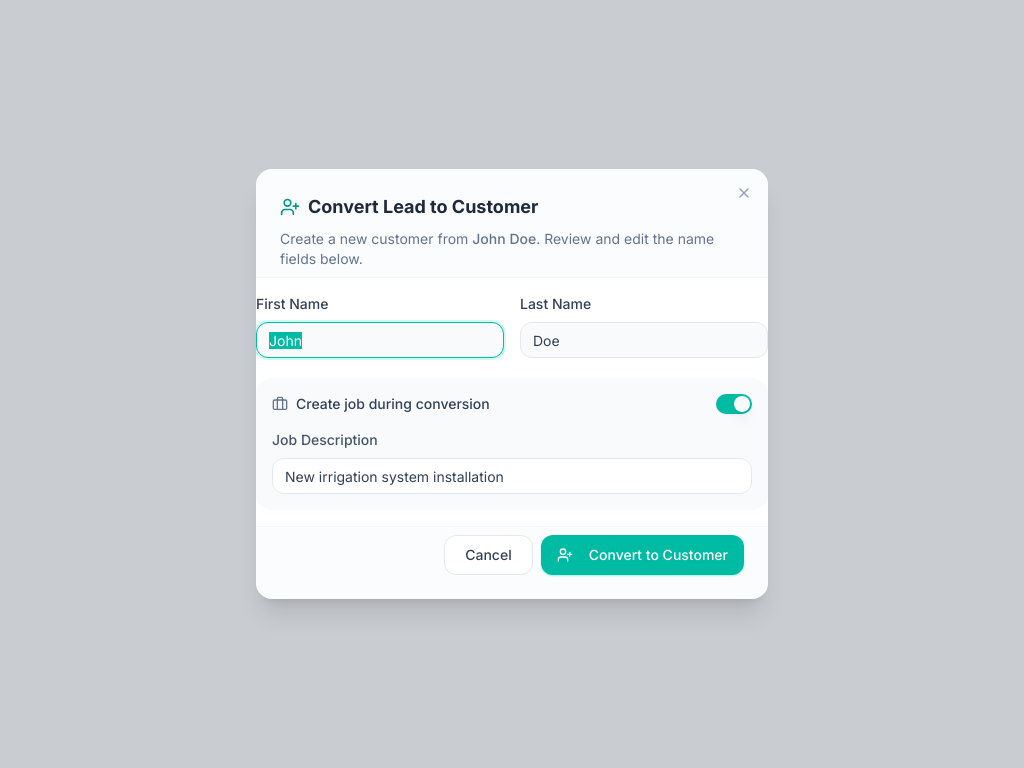
Test: ConvertLeadDialog › disables submit button when first name is empty
This screenshot has width=1024, height=768.
# Clear the first name
Clear the field with test id "convert-first-name" at (380,340), box [256,322,504,358]
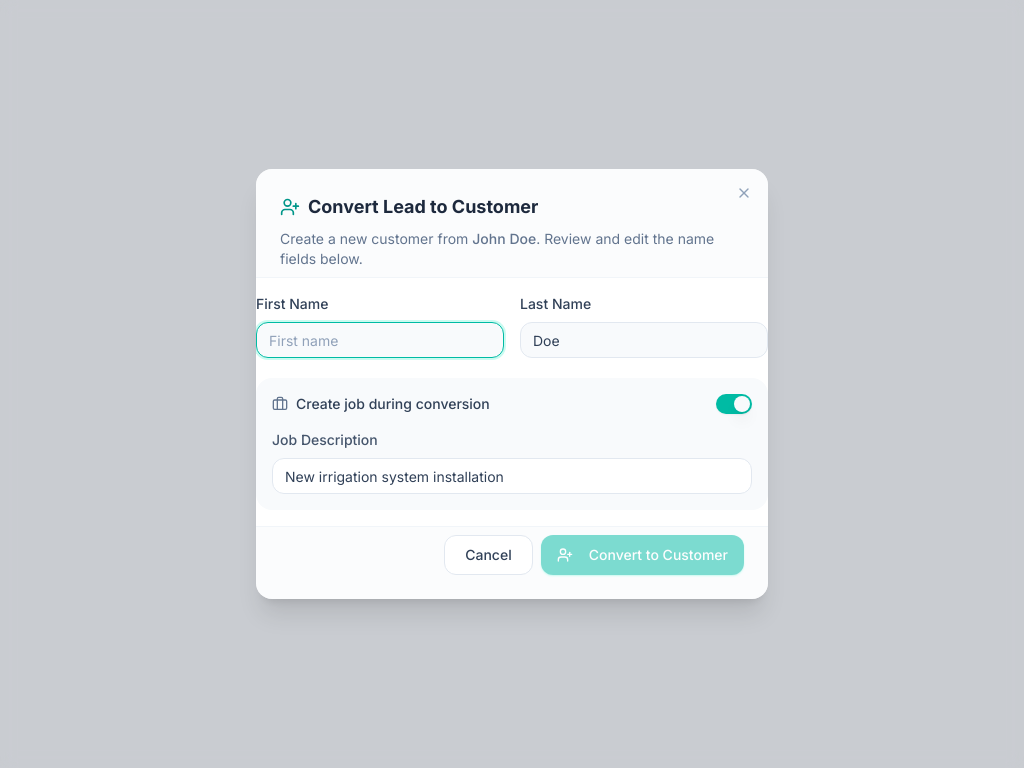
expect the button with test id "convert-submit-btn" is disabled: met, box [541,535,744,575]
